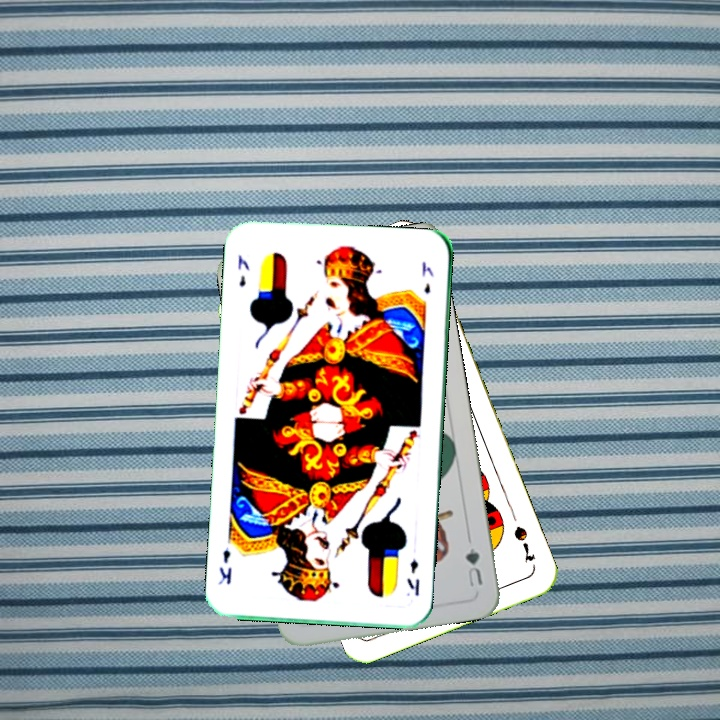EK: (403, 556, 422, 599), (234, 250, 252, 290)
GU: (461, 544, 486, 590)
S7: (509, 522, 538, 566)
